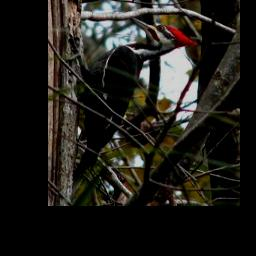Woodpecker: (65, 16, 196, 189)
